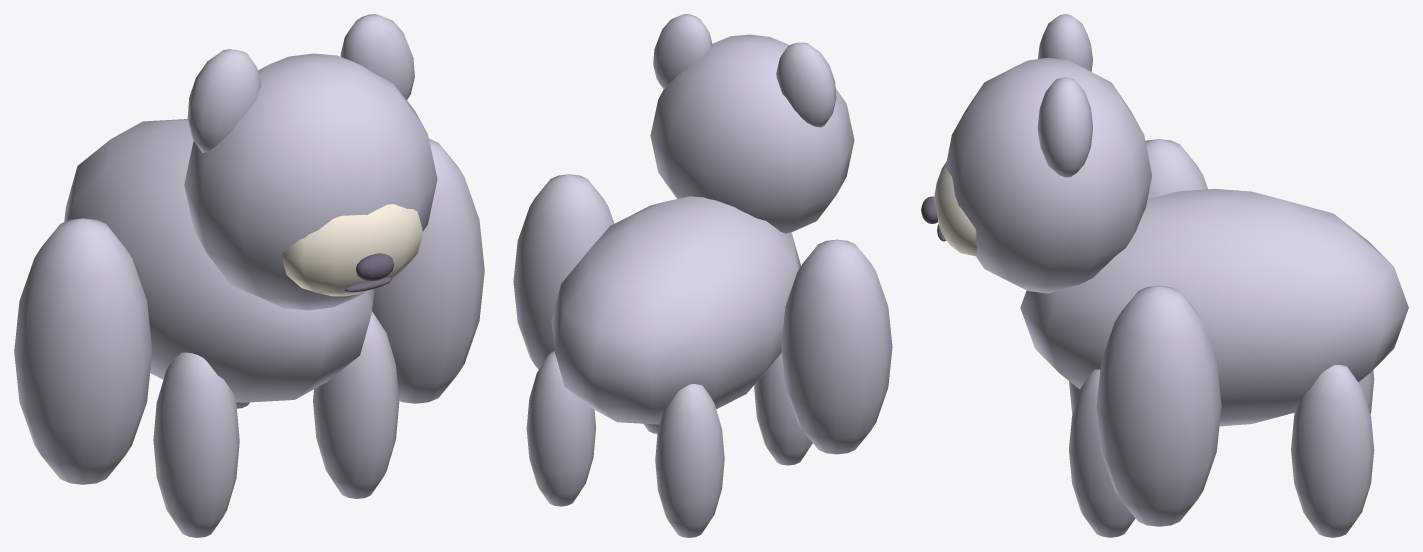
The model's file is gorilla-hope.glb.
The picture shows the model from 3 angles, left to right: view 1: azimuth 30°, elevation 25°; view 2: azimuth 150°, elevation 25°; view 3: azimuth 270°, elevation 25°; orthographic projection. The views are drawn at different scales.
Visible parts, largest first — view 1: gorilla hope offline illustration; view 2: gorilla hope offline illustration; view 3: gorilla hope offline illustration.
Part boxes in pixels (x1=…): gorilla hope offline illustration: x1=14, y1=14, x2=484, y2=537; gorilla hope offline illustration: x1=513, y1=14, x2=892, y2=537; gorilla hope offline illustration: x1=921, y1=14, x2=1408, y2=537.
Bounding box in the file's own units: 0.68 × 0.7232 × 0.703.
